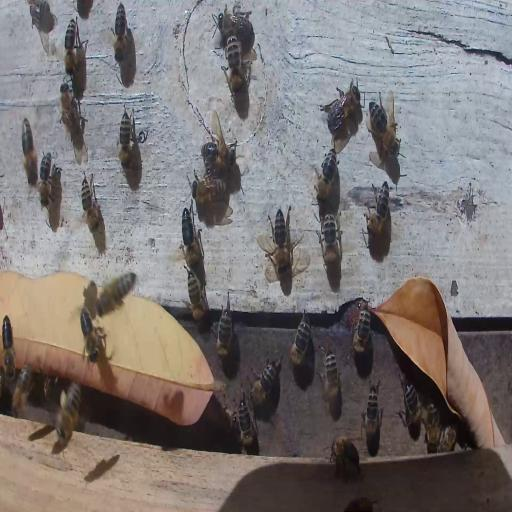bee: (95, 270, 137, 316), (368, 100, 401, 158), (247, 356, 283, 408), (55, 374, 82, 443), (324, 85, 362, 132), (199, 130, 242, 168), (328, 435, 362, 481), (318, 342, 343, 404), (365, 180, 391, 237), (216, 6, 254, 45), (270, 206, 291, 276), (80, 172, 103, 234), (400, 380, 424, 436), (182, 205, 202, 272), (362, 381, 382, 447), (235, 394, 257, 453), (318, 211, 341, 267), (314, 150, 338, 202), (223, 35, 243, 96), (21, 116, 38, 187), (350, 303, 372, 357), (190, 175, 227, 207), (289, 314, 311, 367), (64, 18, 84, 76), (61, 80, 81, 138), (12, 366, 34, 414), (81, 307, 99, 362), (187, 272, 207, 321), (216, 301, 233, 357), (118, 106, 132, 172), (2, 310, 15, 380), (112, 2, 127, 60), (38, 151, 52, 207), (425, 401, 440, 453), (437, 425, 457, 453), (43, 372, 59, 397)
